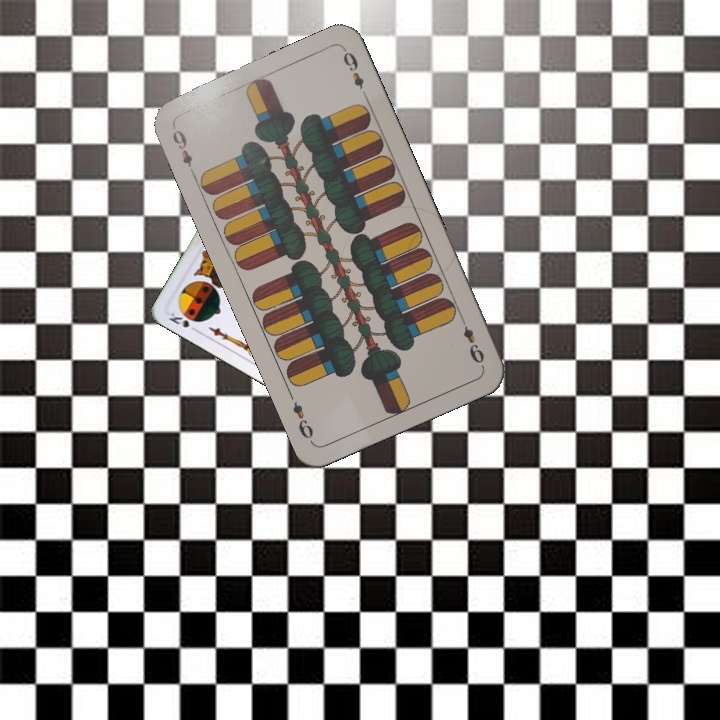E9: (456, 313, 487, 369), (168, 125, 198, 178)
SK: (164, 308, 202, 335)
